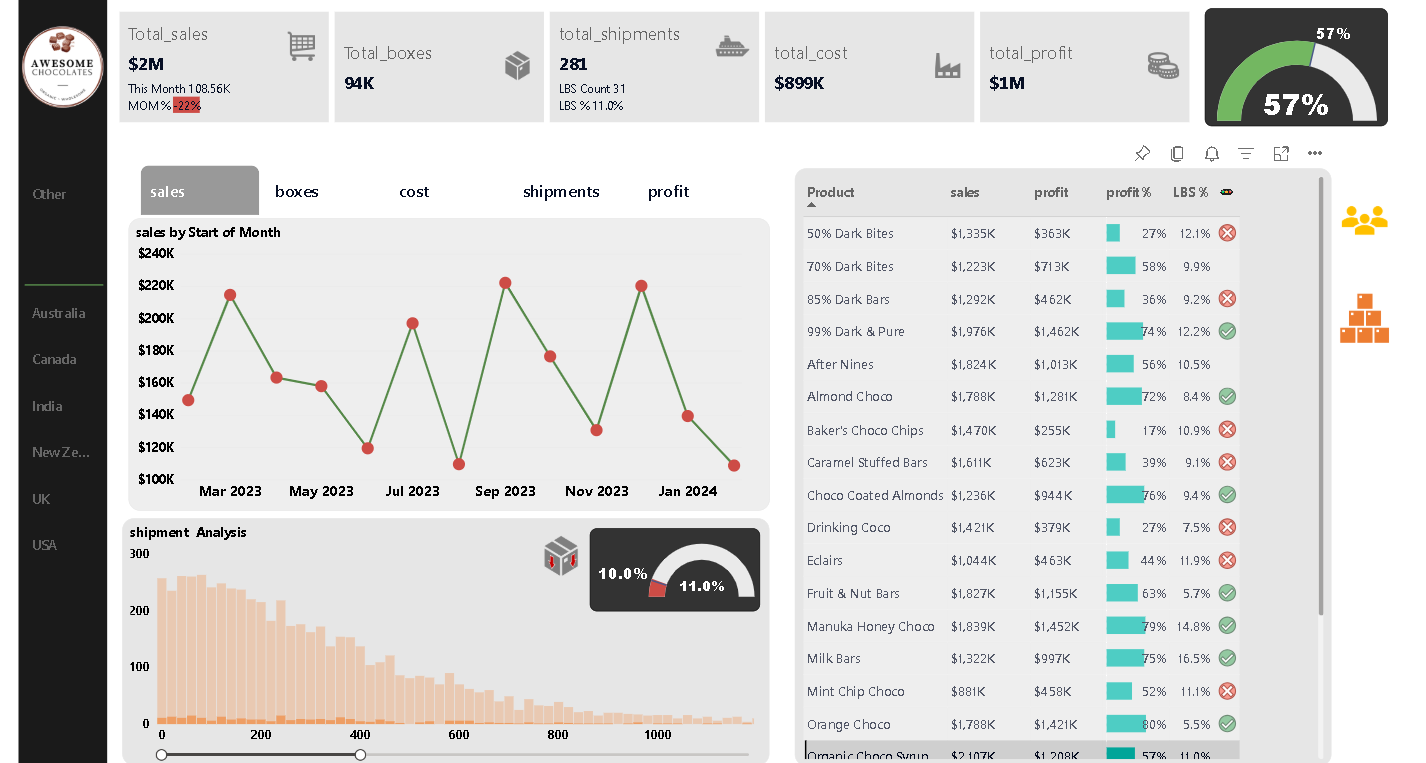

Layout of this report page (visuals, bound fields, positions):
{"tool":"powerbi","page":{"name":"Sales reports","canvas":[1903,1080],"ordinal":2},"visuals":[{"type":"cardVisual","fields":{"Data":["All_Mesaures.Total_sales","All_Mesaures.Total_boxes","All_Mesaures.total_shipments","All_Mesaures.total_cost","All_Mesaures.total_profit"]},"box":[138,22,1482,162],"z":0},{"type":"gauge","fields":{"Y":["All_Mesaures.profit%"]},"box":[1636,22,252,162],"z":1000},{"type":"lineChart","fields":{"Y":["All_Mesaures.total_shipments"],"Category":["calendar.Start of Month"]},"box":[154,312,882,402],"z":2000},{"type":"advancedSlicerVisual","fields":{"Values":["Mesaure Selector.Mesaure Selector"]},"box":[166,234,860,78],"z":3000},{"type":"columnChart","title":"shipment  Analysis","fields":{"Category":["shipments.Boxes (bins)"],"Y":["All_Mesaures.total_shipments"]},"box":[146,724,890,340],"z":4000},{"type":"gauge","fields":{"Y":["All_Mesaures.LBS %"]},"box":[790,738,234,114],"z":5000},{"type":"image","box":[644,738,214,76],"z":6000},{"type":"tableEx","title":"people table","fields":{"Values":["people.Picture","people.Sales person","All_Mesaures.Total_sales","All_Mesaures.total_profit","All_Mesaures.profit%","All_Mesaures.LBS %","All_Mesaures.profit target indicator"]},"box":[1070,242,738,822],"z":7000},{"type":"image","title":"Peoples Icon","box":[1808,274,96,82],"z":9000},{"type":"image","title":"Products Icon","box":[1808,384,96,130],"z":10000},{"type":"shape","box":[4,0,122,1080],"z":11000},{"type":"image","box":[4,22,122,162],"z":12000},{"type":"advancedSlicerVisual","fields":{"Values":["products.Category"]},"box":[4,168,122,216],"z":13000},{"type":"advancedSlicerVisual","fields":{"Values":["shipments.Geography"]},"box":[4,408,122,388],"z":14000},{"type":"shape","box":[12,356,108,94],"z":15000}]}

Visuals, with their boxes on the page's 1903x1080 design canvas (x1, y1, x2, y2). These are canvas units, not pixel positions in the 1426x763 screenshot, which may show the page scaled, cropped or inside an application window:
cardVisual - All_Mesaures.Total_sales x All_Mesaures.Total_boxes: crop(138, 22, 1620, 184)
gauge - All_Mesaures.profit%: crop(1636, 22, 1888, 184)
lineChart - All_Mesaures.total_shipments x calendar.Start of Month: crop(154, 312, 1036, 714)
advancedSlicerVisual - Mesaure Selector.Mesaure Selector: crop(166, 234, 1026, 312)
"shipment  Analysis" columnChart: crop(146, 724, 1036, 1064)
gauge - All_Mesaures.LBS %: crop(790, 738, 1024, 852)
image: crop(644, 738, 858, 814)
"people table" tableEx: crop(1070, 242, 1808, 1064)
"Peoples Icon" image: crop(1808, 274, 1904, 356)
"Products Icon" image: crop(1808, 384, 1904, 514)
shape: crop(4, 0, 126, 1080)
image: crop(4, 22, 126, 184)
advancedSlicerVisual - products.Category: crop(4, 168, 126, 384)
advancedSlicerVisual - shipments.Geography: crop(4, 408, 126, 796)
shape: crop(12, 356, 120, 450)
